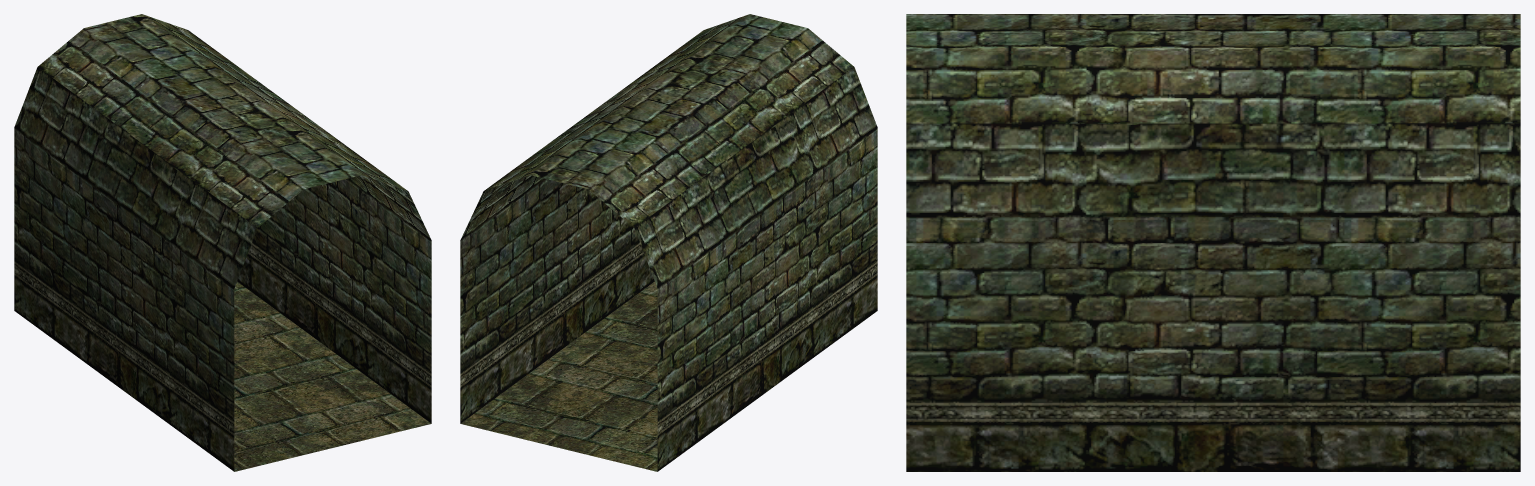
Rendered from cci13.glb.
3 renders of one model, left to right at view 1: azimuth 30°, elevation 25°; view 2: azimuth 150°, elevation 25°; view 3: azimuth 270°, elevation 25°, orthographic. The views are drawn at different scales.
Parts seen in each view (by area): view 1: cci13; view 2: cci13; view 3: cci13.
Part boxes in pixels (x1,y1,x2,y2): cci13: (14, 14, 431, 471); cci13: (460, 14, 877, 471); cci13: (906, 14, 1520, 471).
Bounding box in the file's own units: 2.19 × 2.83 × 4.24.
Materials: 3 (3 with a texture image).
